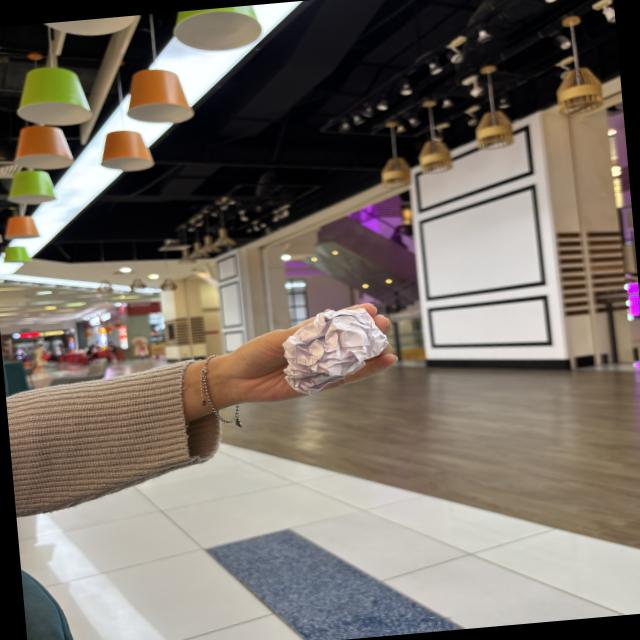crumpled_paper: (276, 300, 398, 398)
